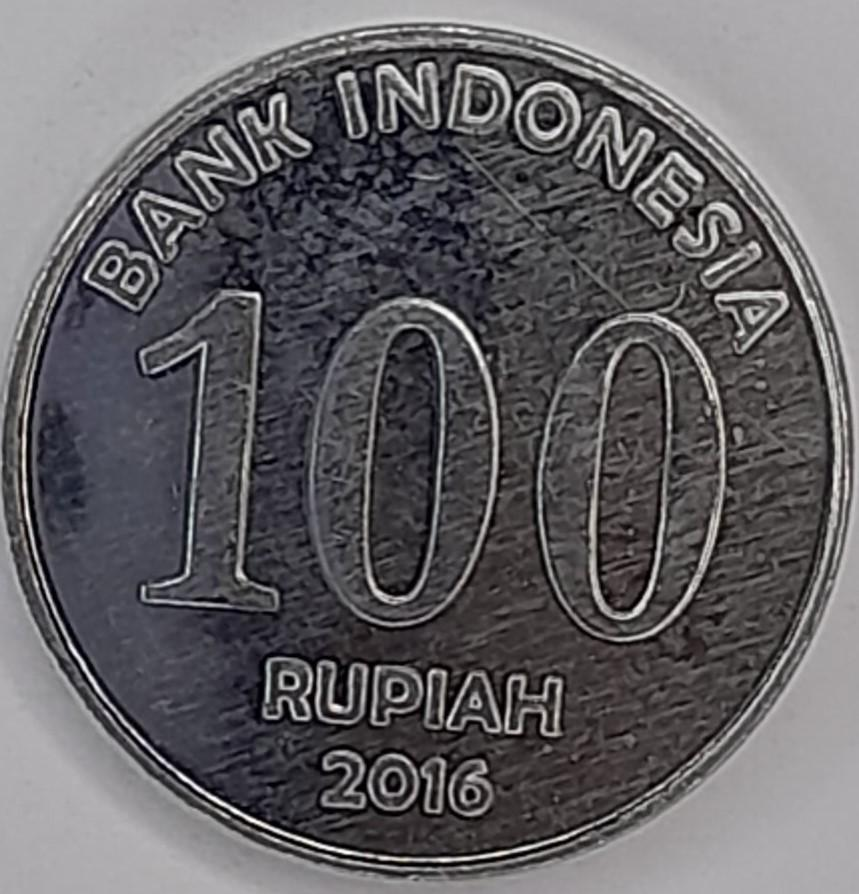coin_100_e2016: (0, 16, 858, 882)
